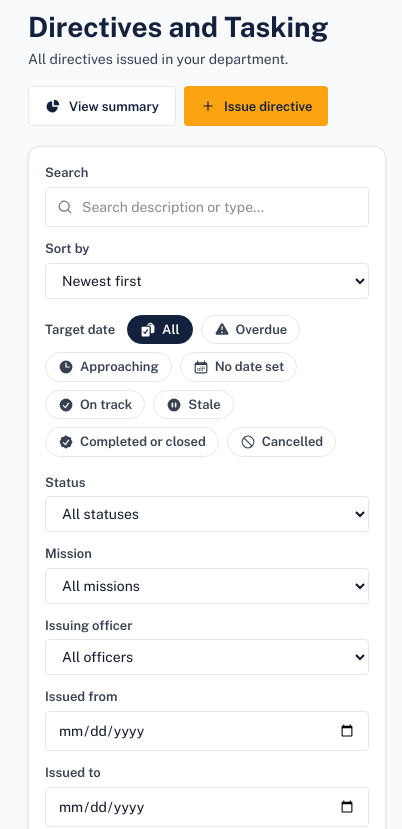
Test: DirectiveListPage › TC-FR-DIR-012-D: oversight roles get department-wide wording, issuer and mission options from the summary endpoint, and a summary link
The image size is (402, 829).
Expected: the text "All directives issued in your department." is shown, [28,48,328,70]
Expected: the link "Issue directive" is shown, [184,86,328,126]
Select "Jane Wanjiru" in the dropdown labelled "Issuing officer": (207, 657) [45,639,369,675]
(page scrolled)
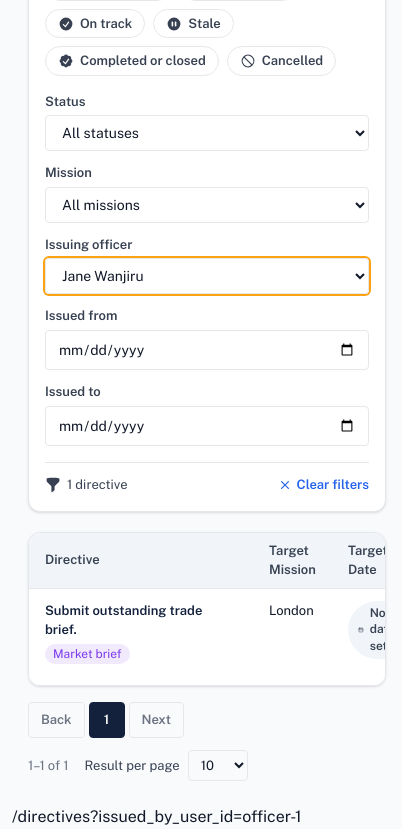
Expected: the text with test id "location" shows "issued_by_user_id=officer-1", [12,807,302,826]
